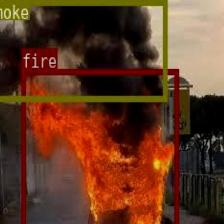fire: (21, 68, 178, 224)
smoke: (0, 0, 165, 99)
